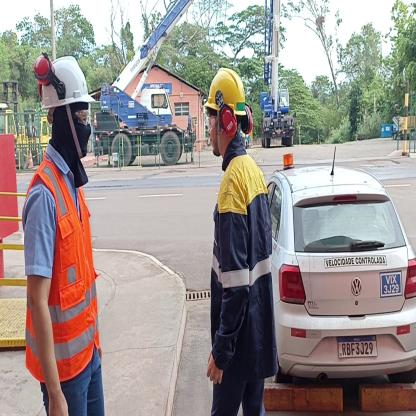Balaclava: (52, 109, 93, 166)
C_eletrica: (209, 160, 278, 380)
Capacete: (34, 53, 96, 107), (201, 65, 252, 117)
colete: (29, 171, 100, 372)
